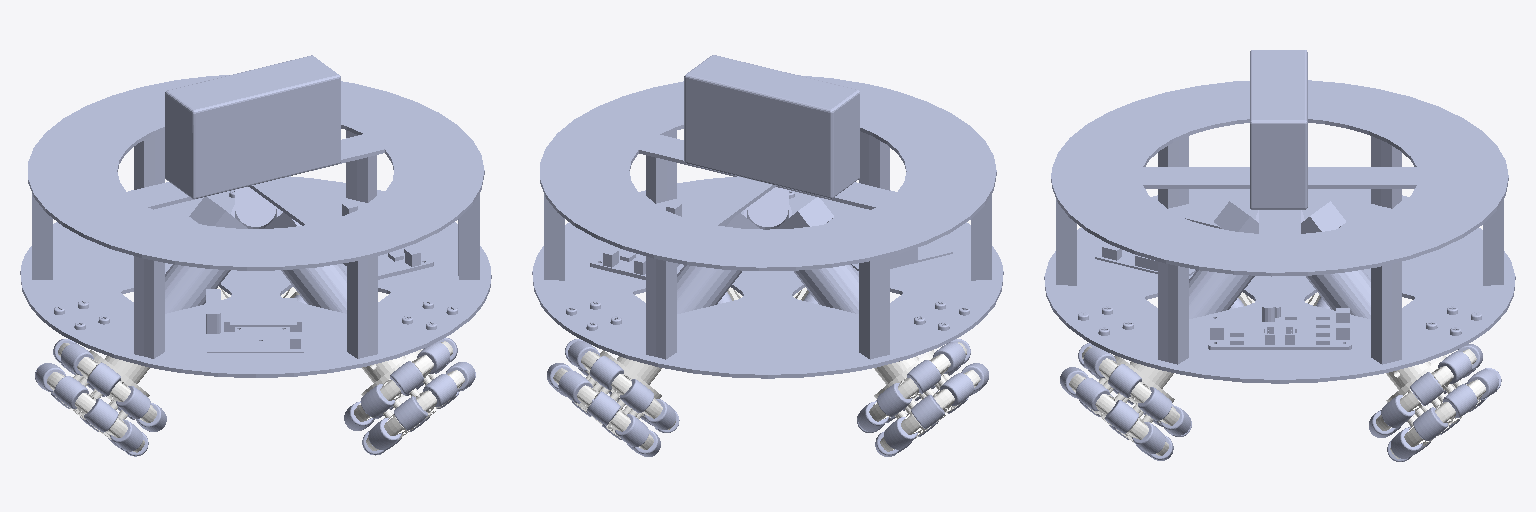
--- What the picture shows (computed from the rendered views, not written in the file) ---
The picture shows the robot from 3 angles, left to right: view 1: azimuth 30°, elevation 25°; view 2: azimuth 150°, elevation 25°; view 3: azimuth 270°, elevation 25°; orthographic projection.
Robot: ballbot 3.0 — 58 links, 57 joints (57 continuous); root link base_link; default pose: every joint at zero.
Visible links, largest first — view 1: base_link, omniwheel4, omniwheel5, wheel415, wheel56, wheel48, wheel518, wheel416, wheel517, wheel49, wheel55, wheel47 (+3 smaller); view 2: base_link, omniwheel1, omniwheel4, wheel46, wheel418, wheel19, wheel18, wheel115, wheel45, wheel417, wheel114, wheel116 (+1 smaller); view 3: base_link, omniwheel1, omniwheel5, wheel515, wheel118, wheel58, wheel16, wheel117, wheel59, wheel516, wheel15, wheel17 (+1 smaller).
Link boxes in pixels (x1,y1,x2,y2): base_link: (20, 55, 491, 377); omniwheel4: (47, 343, 156, 452); omniwheel5: (354, 341, 464, 450); wheel415: (84, 398, 118, 432); wheel56: (390, 361, 423, 394); wheel48: (87, 362, 120, 396); wheel518: (394, 396, 427, 430); wheel416: (54, 376, 88, 408); wheel517: (423, 374, 457, 406); wheel49: (116, 386, 150, 418); wheel55: (361, 384, 394, 417); wheel47: (61, 343, 93, 375); base_link: (532, 55, 1003, 378); omniwheel1: (553, 350, 675, 449); omniwheel4: (869, 342, 980, 451); wheel46: (907, 360, 940, 393); wheel418: (911, 395, 944, 428); wheel19: (620, 379, 653, 412); wheel18: (590, 356, 623, 389); wheel115: (587, 391, 620, 425); wheel45: (877, 383, 911, 416); wheel417: (940, 373, 973, 405); wheel114: (615, 414, 648, 446); wheel116: (558, 371, 592, 403); base_link: (1044, 50, 1515, 383); omniwheel1: (1376, 349, 1485, 458); omniwheel5: (1069, 346, 1179, 455); wheel515: (1105, 400, 1138, 433); wheel118: (1413, 407, 1447, 440); wheel58: (1108, 364, 1141, 397); wheel16: (1410, 372, 1443, 405); wheel117: (1443, 384, 1477, 417); wheel59: (1138, 387, 1171, 420); wheel516: (1076, 378, 1109, 410); wheel15: (1381, 395, 1414, 427); wheel17: (1438, 351, 1471, 383).
Bounding box of the posed robot: 0.3445 × 0.3397 × 0.2672 m (x, y, z).
58 mesh visuals loaded from 58 distinct referenced files (58 binary STL).

The robot description file, URDF, robot "ballbot 3.0":
<?xml version="1.0" encoding="utf-8"?>
<!-- This URDF was automatically created by SolidWorks to URDF Exporter! Originally created by Stephen Brawner ([email redacted]) 
     Commit Version: 1.5.1-0-g916b5db  Build Version: 1.5.7152.31018
     For more information, please see http://wiki.ros.org/sw_urdf_exporter -->
<robot
  name="ballbot 3.0">
  <link
    name="base_link">
    <inertial>
      <origin
        xyz="0.00034247 -0.34147 0.049723"
        rpy="0 0 0" />
      <mass
        value="11.5" />
      <inertia
        ixx="0.0041015"
        ixy="4.4238E-06"
        ixz="4.0991E-07"
        iyy="0.004503"
        iyz="-1.004E-06"
        izz="0.0077111" />
    </inertial>
    <visual>
      <origin
        xyz="0 0 0"
        rpy="0 0 0" />
      <geometry>
        <mesh
          filename="package://ballbot 3.0/meshes/base_link.STL" />
      </geometry>
      <material
        name="">
        <color
          rgba="0.79216 0.81961 0.93333 1" />
      </material>
    </visual>
    <collision>
      <origin
        xyz="0 0 0"
        rpy="0 0 0" />
      <geometry>
        <mesh
          filename="package://ballbot 3.0/meshes/base_link.STL" />
      </geometry>
    </collision>
  </link>
  <link
    name="omniwheel4">
    <inertial>
      <origin
        xyz="-0.0033504 -0.017313 0.00031354"
        rpy="0 0 0" />
      <mass
        value="0.4" />
      <inertia
        ixx="5.3804E-05"
        ixy="1.7084E-06"
        ixz="-4.8248E-09"
        iyy="7.3424E-05"
        iyz="-1.9402E-07"
        izz="5.3646E-05" />
    </inertial>
    <visual>
      <origin
        xyz="0 0 0"
        rpy="0 0 0" />
      <geometry>
        <mesh
          filename="package://ballbot 3.0/meshes/omniwheel4.STL" />
      </geometry>
      <material
        name="">
        <color
          rgba="1 1 1 1" />
      </material>
    </visual>
    <collision>
      <origin
        xyz="0 0 0"
        rpy="0 0 0" />
      <geometry>
        <mesh
          filename="package://ballbot 3.0/meshes/omniwheel4.STL" />
      </geometry>
    </collision>
  </link>
  <joint
    name="omniwheel4"
    type="continuous">
    <origin
      xyz="-0.11348 -0.34003 -0.052798"
      rpy="1.4806 0.69325 -0.14058" />
    <parent
      link="base_link" />
    <child
      link="omniwheel4" />
    <axis
      xyz="0 1 0" />
  </joint>
  <link
    name="wheel41">
    <inertial>
      <origin
        xyz="7.1848E-06 6.8694E-06 2.982E-06"
        rpy="0 0 0" />
      <mass
        value="0.0023" />
      <inertia
        ixx="2.1874E-07"
        ixy="4.4072E-16"
        ixz="-4.7451E-16"
        iyy="2.4987E-07"
        iyz="1.5924E-18"
        izz="2.4987E-07" />
    </inertial>
    <visual>
      <origin
        xyz="0 0 0"
        rpy="0 0 0" />
      <geometry>
        <mesh
          filename="package://ballbot 3.0/meshes/wheel41.STL" />
      </geometry>
      <material
        name="">
        <color
          rgba="0.79216 0.81961 0.93333 1" />
      </material>
    </visual>
    <collision>
      <origin
        xyz="0 0 0"
        rpy="0 0 0" />
      <geometry>
        <mesh
          filename="package://ballbot 3.0/meshes/wheel41.STL" />
      </geometry>
    </collision>
  </link>
  <joint
    name="wheel41"
    type="continuous">
    <origin
      xyz="0.022594 -0.010412 0.03125"
      rpy="-0.73638 -0.68311 3.0472" />
    <parent
      link="omniwheel4" />
    <child
      link="wheel41" />
    <axis
      xyz="1 0 0" />
  </joint>
  <link
    name="wheel42">
    <inertial>
      <origin
        xyz="3.9928E-06 9.4484E-06 2.0535E-07"
        rpy="0 0 0" />
      <mass
        value="0.0023" />
      <inertia
        ixx="2.1874E-07"
        ixy="-1.571E-14"
        ixz="1.6915E-14"
        iyy="2.4987E-07"
        iyz="2.0581E-15"
        izz="2.4987E-07" />
    </inertial>
    <visual>
      <origin
        xyz="0 0 0"
        rpy="0 0 0" />
      <geometry>
        <mesh
          filename="package://ballbot 3.0/meshes/wheel42.STL" />
      </geometry>
      <material
        name="">
        <color
          rgba="0.79216 0.81961 0.93333 1" />
      </material>
    </visual>
    <collision>
      <origin
        xyz="0 0 0"
        rpy="0 0 0" />
      <geometry>
        <mesh
          filename="package://ballbot 3.0/meshes/wheel42.STL" />
      </geometry>
    </collision>
  </link>
  <joint
    name="wheel42"
    type="continuous">
    <origin
      xyz="0.036556 -0.011848 0.0077631"
      rpy="-0.69867 -1.3811 3.0059" />
    <parent
      link="omniwheel4" />
    <child
      link="wheel42" />
    <axis
      xyz="1 0 0" />
  </joint>
  <link
    name="wheel43">
    <inertial>
      <origin
        xyz="-8.9079E-07 1.0028E-05 -4.1885E-07"
        rpy="0 0 0" />
      <mass
        value="0.0023" />
      <inertia
        ixx="2.1874E-07"
        ixy="-1.8078E-14"
        ixz="1.9464E-14"
        iyy="2.4987E-07"
        iyz="2.2873E-15"
        izz="2.4987E-07" />
    </inertial>
    <visual>
      <origin
        xyz="0 0 0"
        rpy="0 0 0" />
      <geometry>
        <mesh
          filename="package://ballbot 3.0/meshes/wheel43.STL" />
      </geometry>
      <material
        name="">
        <color
          rgba="0.79216 0.81961 0.93333 1" />
      </material>
    </visual>
    <collision>
      <origin
        xyz="0 0 0"
        rpy="0 0 0" />
      <geometry>
        <mesh
          filename="package://ballbot 3.0/meshes/wheel43.STL" />
      </geometry>
    </collision>
  </link>
  <joint
    name="wheel43"
    type="continuous">
    <origin
      xyz="0.032203 -0.011724 -0.01925"
      rpy="2.3738 -1.0621 -0.069915" />
    <parent
      link="omniwheel4" />
    <child
      link="wheel43" />
    <axis
      xyz="1 0 0" />
  </joint>
  <link
    name="wheel44">
    <inertial>
      <origin
        xyz="-5.1771E-06 8.3376E-06 1.4013E-06"
        rpy="0 0 0" />
      <mass
        value="0.0023" />
      <inertia
        ixx="2.1874E-07"
        ixy="2.6295E-15"
        ixz="-2.8311E-15"
        iyy="2.4987E-07"
        iyz="5.4475E-17"
        izz="2.4987E-07" />
    </inertial>
    <visual>
      <origin
        xyz="0 0 0"
        rpy="0 0 0" />
      <geometry>
        <mesh
          filename="package://ballbot 3.0/meshes/wheel44.STL" />
      </geometry>
      <material
        name="">
        <color
          rgba="0.79216 0.81961 0.93333 1" />
      </material>
    </visual>
    <collision>
      <origin
        xyz="0 0 0"
        rpy="0 0 0" />
      <geometry>
        <mesh
          filename="package://ballbot 3.0/meshes/wheel44.STL" />
      </geometry>
    </collision>
  </link>
  <joint
    name="wheel44"
    type="continuous">
    <origin
      xyz="0.011572 -0.010098 -0.037149"
      rpy="2.383 -0.36403 -0.083182" />
    <parent
      link="omniwheel4" />
    <child
      link="wheel44" />
    <axis
      xyz="1 0 0" />
  </joint>
  <link
    name="wheel45">
    <inertial>
      <origin
        xyz="-6.8649E-06 5.1664E-06 4.8157E-06"
        rpy="0 0 0" />
      <mass
        value="0.0023" />
      <inertia
        ixx="2.1874E-07"
        ixy="2.5622E-15"
        ixz="-2.7587E-15"
        iyy="2.4987E-07"
        iyz="4.6069E-17"
        izz="2.4987E-07" />
    </inertial>
    <visual>
      <origin
        xyz="0 0 0"
        rpy="0 0 0" />
      <geometry>
        <mesh
          filename="package://ballbot 3.0/meshes/wheel45.STL" />
      </geometry>
      <material
        name="">
        <color
          rgba="0.79216 0.81961 0.93333 1" />
      </material>
    </visual>
    <collision>
      <origin
        xyz="0 0 0"
        rpy="0 0 0" />
      <geometry>
        <mesh
          filename="package://ballbot 3.0/meshes/wheel45.STL" />
      </geometry>
    </collision>
  </link>
  <joint
    name="wheel45"
    type="continuous">
    <origin
      xyz="-0.015684 -0.0077316 -0.037559"
      rpy="2.3832 0.33407 -0.090021" />
    <parent
      link="omniwheel4" />
    <child
      link="wheel45" />
    <axis
      xyz="1 0 0" />
  </joint>
  <link
    name="wheel46">
    <inertial>
      <origin
        xyz="-5.159E-06 1.9986E-06 8.2263E-06"
        rpy="0 0 0" />
      <mass
        value="0.0023" />
      <inertia
        ixx="2.1874E-07"
        ixy="-1.0069E-14"
        ixz="1.0841E-14"
        iyy="2.4987E-07"
        iyz="9.4571E-16"
        izz="2.4987E-07" />
    </inertial>
    <visual>
      <origin
        xyz="0 0 0"
        rpy="0 0 0" />
      <geometry>
        <mesh
          filename="package://ballbot 3.0/meshes/wheel46.STL" />
      </geometry>
      <material
        name="">
        <color
          rgba="0.79216 0.81961 0.93333 1" />
      </material>
    </visual>
    <collision>
      <origin
        xyz="0 0 0"
        rpy="0 0 0" />
      <geometry>
        <mesh
          filename="package://ballbot 3.0/meshes/wheel46.STL" />
      </geometry>
    </collision>
  </link>
  <joint
    name="wheel46"
    type="continuous">
    <origin
      xyz="-0.036811 -0.0057311 -0.020288"
      rpy="2.3748 1.0321 -0.10248" />
    <parent
      link="omniwheel4" />
    <child
      link="wheel46" />
    <axis
      xyz="1 0 0" />
  </joint>
  <link
    name="wheel47">
    <inertial>
      <origin
        xyz="-8.6463E-07 3.1784E-07 1.0036E-05"
        rpy="0 0 0" />
      <mass
        value="0.0023" />
      <inertia
        ixx="2.1874E-07"
        ixy="-3.5856E-15"
        ixz="3.8606E-15"
        iyy="2.4987E-07"
        iyz="9.9855E-17"
        izz="2.4987E-07" />
    </inertial>
    <visual>
      <origin
        xyz="0 0 0"
        rpy="0 0 0" />
      <geometry>
        <mesh
          filename="package://ballbot 3.0/meshes/wheel47.STL" />
      </geometry>
      <material
        name="">
        <color
          rgba="0.79216 0.81961 0.93333 1" />
      </material>
    </visual>
    <collision>
      <origin
        xyz="0 0 0"
        rpy="0 0 0" />
      <geometry>
        <mesh
          filename="package://ballbot 3.0/meshes/wheel47.STL" />
      </geometry>
    </collision>
  </link>
  <joint
    name="wheel47"
    type="continuous">
    <origin
      xyz="-0.041924 -0.005033 0.0065827"
      rpy="-0.68944 1.411 3.1131" />
    <parent
      link="omniwheel4" />
    <child
      link="wheel47" />
    <axis
      xyz="1 0 0" />
  </joint>
  <link
    name="wheel48">
    <inertial>
      <origin
        xyz="4.0124E-06 9.0927E-07 9.3992E-06"
        rpy="0 0 0" />
      <mass
        value="0.0023" />
      <inertia
        ixx="2.1874E-07"
        ixy="-5.8857E-15"
        ixz="6.337E-15"
        iyy="2.4987E-07"
        iyz="2.185E-16"
        izz="2.4987E-07" />
    </inertial>
    <visual>
      <origin
        xyz="0 0 0"
        rpy="0 0 0" />
      <geometry>
        <mesh
          filename="package://ballbot 3.0/meshes/wheel48.STL" />
      </geometry>
      <material
        name="">
        <color
          rgba="0.79216 0.81961 0.93333 1" />
      </material>
    </visual>
    <collision>
      <origin
        xyz="0 0 0"
        rpy="0 0 0" />
      <geometry>
        <mesh
          filename="package://ballbot 3.0/meshes/wheel48.STL" />
      </geometry>
    </collision>
  </link>
  <joint
    name="wheel48"
    type="continuous">
    <origin
      xyz="-0.028631 -0.0059639 0.03048"
      rpy="-0.73607 0.71308 3.063" />
    <parent
      link="omniwheel4" />
    <child
      link="wheel48" />
    <axis
      xyz="1 0 0" />
  </joint>
  <link
    name="wheel49">
    <inertial>
      <origin
        xyz="7.1936E-06 3.4969E-06 6.6132E-06"
        rpy="0 0 0" />
      <mass
        value="0.0023" />
      <inertia
        ixx="2.1874E-07"
        ixy="5.957E-16"
        ixz="-6.4137E-16"
        iyy="2.4987E-07"
        iyz="2.9174E-18"
        izz="2.4987E-07" />
    </inertial>
    <visual>
      <origin
        xyz="0 0 0"
        rpy="0 0 0" />
      <geometry>
        <mesh
          filename="package://ballbot 3.0/meshes/wheel49.STL" />
      </geometry>
      <material
        name="">
        <color
          rgba="0.79216 0.81961 0.93333 1" />
      </material>
    </visual>
    <collision>
      <origin
        xyz="0 0 0"
        rpy="0 0 0" />
      <geometry>
        <mesh
          filename="package://ballbot 3.0/meshes/wheel49.STL" />
      </geometry>
    </collision>
  </link>
  <joint
    name="wheel49"
    type="continuous">
    <origin
      xyz="-0.0031507 -0.0080883 0.040222"
      rpy="-0.7391 0.014982 3.055" />
    <parent
      link="omniwheel4" />
    <child
      link="wheel49" />
    <axis
      xyz="-1 0 0" />
  </joint>
  <link
    name="wheel410">
    <inertial>
      <origin
        xyz="7.2147E-06 7.0627E-06 2.4072E-06"
        rpy="0 0 0" />
      <mass
        value="0.0023" />
      <inertia
        ixx="2.1874E-07"
        ixy="2.0029E-23"
        ixz="-1.0206E-15"
        iyy="2.4987E-07"
        iyz="2.595E-24"
        izz="2.4987E-07" />
    </inertial>
    <visual>
      <origin
        xyz="0 0 0"
        rpy="0 0 0" />
      <geometry>
        <mesh
          filename="package://ballbot 3.0/meshes/wheel410.STL" />
      </geometry>
      <material
        name="">
        <color
          rgba="0.79216 0.81961 0.93333 1" />
      </material>
    </visual>
    <collision>
      <origin
        xyz="0 0 0"
        rpy="0 0 0" />
      <geometry>
        <mesh
          filename="package://ballbot 3.0/meshes/wheel410.STL" />
      </geometry>
    </collision>
  </link>
  <joint
    name="wheel410"
    type="continuous">
    <origin
      xyz="-0.0042527 -0.030625 -0.039565"
      rpy="0.0093936 0.006392 3.0549" />
    <parent
      link="omniwheel4" />
    <child
      link="wheel410" />
    <axis
      xyz="1 0 0" />
  </joint>
  <link
    name="wheel411">
    <inertial>
      <origin
        xyz="4.0676E-06 7.0627E-06 6.2364E-06"
        rpy="0 0 0" />
      <mass
        value="0.0023" />
      <inertia
        ixx="2.1874E-07"
        ixy="-6.0908E-22"
        ixz="6.1003E-16"
        iyy="2.4987E-07"
        iyz="-1.4272E-23"
        izz="2.4987E-07" />
    </inertial>
    <visual>
      <origin
        xyz="0 0 0"
        rpy="0 0 0" />
      <geometry>
        <mesh
          filename="package://ballbot 3.0/meshes/wheel411.STL" />
      </geometry>
      <material
        name="">
        <color
          rgba="0.79216 0.81961 0.93333 1" />
      </material>
    </visual>
    <collision>
      <origin
        xyz="0 0 0"
        rpy="0 0 0" />
      <geometry>
        <mesh
          filename="package://ballbot 3.0/meshes/wheel411.STL" />
      </geometry>
    </collision>
  </link>
  <joint
    name="wheel411"
    type="continuous">
    <origin
      xyz="0.02131 -0.032759 -0.030043"
      rpy="0.012328 0.70449 3.0628" />
    <parent
      link="omniwheel4" />
    <child
      link="wheel411" />
    <axis
      xyz="1 0 0" />
  </joint>
  <link
    name="wheel412">
    <inertial>
      <origin
        xyz="-8.0329E-07 7.0627E-06 7.1477E-06"
        rpy="0 0 0" />
      <mass
        value="0.0023" />
      <inertia
        ixx="2.1874E-07"
        ixy="-1.6456E-22"
        ixz="6.1283E-15"
        iyy="2.4987E-07"
        iyz="4.9378E-24"
        izz="2.4987E-07" />
    </inertial>
    <visual>
      <origin
        xyz="0 0 0"
        rpy="0 0 0" />
      <geometry>
        <mesh
          filename="package://ballbot 3.0/meshes/wheel412.STL" />
      </geometry>
      <material
        name="">
        <color
          rgba="0.79216 0.81961 0.93333 1" />
      </material>
    </visual>
    <collision>
      <origin
        xyz="0 0 0"
        rpy="0 0 0" />
      <geometry>
        <mesh
          filename="package://ballbot 3.0/meshes/wheel412.STL" />
      </geometry>
    </collision>
  </link>
  <joint
    name="wheel412"
    type="continuous">
    <origin
      xyz="0.034807 -0.033708 -0.0062609"
      rpy="0.056073 1.4024 3.1101" />
    <parent
      link="omniwheel4" />
    <child
      link="wheel412" />
    <axis
      xyz="1 0 0" />
  </joint>
  <link
    name="wheel413">
    <inertial>
      <origin
        xyz="-5.1195E-06 7.0627E-06 4.7147E-06"
        rpy="0 0 0" />
      <mass
        value="0.0023" />
      <inertia
        ixx="2.1874E-07"
        ixy="3.4015E-22"
        ixz="1.3239E-14"
        iyy="2.4987E-07"
        iyz="5.1775E-24"
        izz="2.4987E-07" />
    </inertial>
    <visual>
      <origin
        xyz="0 0 0"
        rpy="0 0 0" />
      <geometry>
        <mesh
          filename="package://ballbot 3.0/meshes/wheel413.STL" />
      </geometry>
      <material
        name="">
        <color
          rgba="0.79216 0.81961 0.93333 1" />
      </material>
    </visual>
    <collision>
      <origin
        xyz="0 0 0"
        rpy="0 0 0" />
      <geometry>
        <mesh
          filename="package://ballbot 3.0/meshes/wheel413.STL" />
      </geometry>
    </collision>
  </link>
  <joint
    name="wheel413"
    type="continuous">
    <origin
      xyz="0.029924 -0.03303 0.020653"
      rpy="3.123 1.0407 -0.10279" />
    <parent
      link="omniwheel4" />
    <child
      link="wheel413" />
    <axis
      xyz="1 0 0" />
  </joint>
  <link
    name="wheel414">
    <inertial>
      <origin
        xyz="-6.8651E-06 7.0627E-06 7.5102E-08"
        rpy="0 0 0" />
      <mass
        value="0.0023" />
      <inertia
        ixx="2.1874E-07"
        ixy="7.7346E-23"
        ixz="1.7559E-15"
        iyy="2.4987E-07"
        iyz="-5.3396E-24"
        izz="2.4987E-07" />
    </inertial>
    <visual>
      <origin
        xyz="0 0 0"
        rpy="0 0 0" />
      <geometry>
        <mesh
          filename="package://ballbot 3.0/meshes/wheel414.STL" />
      </geometry>
      <material
        name="">
        <color
          rgba="0.79216 0.81961 0.93333 1" />
      </material>
    </visual>
    <collision>
      <origin
        xyz="0 0 0"
        rpy="0 0 0" />
      <geometry>
        <mesh
          filename="package://ballbot 3.0/meshes/wheel414.STL" />
      </geometry>
    </collision>
  </link>
  <joint
    name="wheel414"
    type="continuous">
    <origin
      xyz="0.0089455 -0.031041 0.038106"
      rpy="3.1316 0.34266 -0.090112" />
    <parent
      link="omniwheel4" />
    <child
      link="wheel414" />
    <axis
      xyz="1 0 0" />
  </joint>
  <link
    name="wheel415">
    <inertial>
      <origin
        xyz="-5.2144E-06 7.0627E-06 -4.599E-06"
        rpy="0 0 0" />
      <mass
        value="0.0023" />
      <inertia
        ixx="2.1874E-07"
        ixy="1.5335E-24"
        ixz="3.195E-15"
        iyy="2.4987E-07"
        iyz="-3.5907E-25"
        izz="2.4987E-07" />
    </inertial>
    <visual>
      <origin
        xyz="0 0 0"
        rpy="0 0 0" />
      <geometry>
        <mesh
          filename="package://ballbot 3.0/meshes/wheel415.STL" />
      </geometry>
      <material
        name="">
        <color
          rgba="0.79216 0.81961 0.93333 1" />
      </material>
    </visual>
    <collision>
      <origin
        xyz="0 0 0"
        rpy="0 0 0" />
      <geometry>
        <mesh
          filename="package://ballbot 3.0/meshes/wheel415.STL" />
      </geometry>
    </collision>
  </link>
  <joint
    name="wheel415"
    type="continuous">
    <origin
      xyz="-0.018313 -0.028671 0.037931"
      rpy="3.1316 -0.35544 -0.083274" />
    <parent
      link="omniwheel4" />
    <child
      link="wheel415" />
    <axis
      xyz="1 0 0" />
  </joint>
  <link
    name="wheel416">
    <inertial>
      <origin
        xyz="-9.5204E-07 7.0627E-06 -7.1202E-06"
        rpy="0 0 0" />
      <mass
        value="0.0023" />
      <inertia
        ixx="2.1874E-07"
        ixy="2.6461E-22"
        ixz="2.6543E-14"
        iyy="2.4987E-07"
        iyz="-2.9563E-24"
        izz="2.4987E-07" />
    </inertial>
    <visual>
      <origin
        xyz="0 0 0"
        rpy="0 0 0" />
      <geometry>
        <mesh
          filename="package://ballbot 3.0/meshes/wheel416.STL" />
      </geometry>
      <material
        name="">
        <color
          rgba="0.79216 0.81961 0.93333 1" />
      </material>
    </visual>
    <collision>
      <origin
        xyz="0 0 0"
        rpy="0 0 0" />
      <geometry>
        <mesh
          filename="package://ballbot 3.0/meshes/wheel416.STL" />
      </geometry>
    </collision>
  </link>
  <joint
    name="wheel416"
    type="continuous">
    <origin
      xyz="-0.039096 -0.027031 0.02021"
      rpy="3.1226 -1.0535 -0.07025" />
    <parent
      link="omniwheel4" />
    <child
      link="wheel416" />
    <axis
      xyz="1 0 0" />
  </joint>
  <link
    name="wheel417">
    <inertial>
      <origin
        xyz="3.9387E-06 7.0627E-06 -6.3103E-06"
        rpy="0 0 0" />
      <mass
        value="0.0023" />
      <inertia
        ixx="2.1874E-07"
        ixy="-5.6344E-23"
        ixz="2.2778E-14"
        iyy="2.4987E-07"
        iyz="-3.4354E-23"
        izz="2.4987E-07" />
    </inertial>
    <visual>
      <origin
        xyz="0 0 0"
        rpy="0 0 0" />
      <geometry>
        <mesh
          filename="package://ballbot 3.0/meshes/wheel417.STL" />
      </geometry>
      <material
        name="">
        <color
          rgba="0.79216 0.81961 0.93333 1" />
      </material>
    </visual>
    <collision>
      <origin
        xyz="0 0 0"
        rpy="0 0 0" />
      <geometry>
        <mesh
          filename="package://ballbot 3.0/meshes/wheel417.STL" />
      </geometry>
    </collision>
  </link>
  <joint
    name="wheel417"
    type="continuous">
    <origin
      xyz="-0.04368 -0.026886 -0.0067645"
      rpy="0.052157 -1.3896 3.0035" />
    <parent
      link="omniwheel4" />
    <child
      link="wheel417" />
    <axis
      xyz="1 0 0" />
  </joint>
  <link
    name="wheel418">
    <inertial>
      <origin
        xyz="7.1606E-06 7.0627E-06 -2.5482E-06"
        rpy="0 0 0" />
      <mass
        value="0.0023" />
      <inertia
        ixx="2.1874E-07"
        ixy="2.5465E-22"
        ixz="9.3027E-16"
        iyy="2.4987E-07"
        iyz="-2.7941E-23"
        izz="2.4987E-07" />
    </inertial>
    <visual>
      <origin
        xyz="0 0 0"
        rpy="0 0 0" />
      <geometry>
        <mesh
          filename="package://ballbot 3.0/meshes/wheel418.STL" />
      </geometry>
      <material
        name="">
        <color
          rgba="0.79216 0.81961 0.93333 1" />
      </material>
    </visual>
    <collision>
      <origin
        xyz="0 0 0"
        rpy="0 0 0" />
      <geometry>
        <mesh
          filename="package://ballbot 3.0/meshes/wheel418.STL" />
      </geometry>
    </collision>
  </link>
  <joint
    name="wheel418"
    type="continuous">
    <origin
      xyz="-0.029919 -0.028306 -0.030371"
      rpy="0.012197 -0.6917 3.0471" />
    <parent
      link="omniwheel4" />
    <child
      link="wheel418" />
    <axis
      xyz="1 0 0" />
  </joint>
  <link
    name="omniwheel1">
    <inertial>
      <origin
        xyz="-0.0018323 -0.017347 0.0028695"
        rpy="0 0 0" />
      <mass
        value="0.4" />
      <inertia
        ixx="5.3702E-05"
        ixy="9.3644E-07"
        ixz="-5.9471E-08"
        iyy="7.3422E-05"
        iyz="-1.4555E-06"
        izz="5.375E-05" />
    </inertial>
    <visual>
      <origin
        xyz="0 0 0"
        rpy="0 0 0" />
      <geometry>
        <mesh
          filename="package://ballbot 3.0/meshes/omniwheel1.STL" />
      </geometry>
      <material
        name="">
        <color
          rgba="1 1 1 1" />
      </material>
    </visual>
    <collision>
      <origin
        xyz="0 0 0"
        rpy="0 0 0" />
      <geometry>
        <mesh
          filename="package://ballbot 3.0/meshes/omniwheel1.STL" />
      </geometry>
    </collision>
  </link>
  <joint
    name="omniwheel1"
    type="continuous">
    <origin
      xyz="0.057368 -0.24133 -0.052798"
      rpy="0.95859 0.35957 3.0825" />
    <parent
      link="base_link" />
    <child
      link="omniwheel1" />
    <axis
      xyz="0 1 0" />
  </joint>
  <link
    name="wheel11">
    <inertial>
      <origin
        xyz="3.8113E-07 6.2405E-06 5.7962E-06"
        rpy="0 0 0" />
      <mass
        value="0.0023" />
      <inertia
        ixx="2.1874E-07"
        ixy="1.3618E-15"
        ixz="3.3533E-15"
        iyy="2.4987E-07"
        iyz="-3.4067E-17"
        izz="2.4987E-07" />
    </inertial>
    <visual>
      <origin
        xyz="0 0 0"
        rpy="0 0 0" />
      <geometry>
        <mesh
          filename="package://ballbot 3.0/meshes/wheel11.STL" />
      </geometry>
      <material
        name="">
        <color
          rgba="0.79216 0.81961 0.93333 1" />
      </material>
    </visual>
    <collision>
      <origin
        xyz="0 0 0"
        rpy="0 0 0" />
      <geometry>
        <mesh
          filename="package://ballbot 3.0/meshes/wheel11.STL" />
      </geometry>
    </collision>
  </link>
  <joint
    name="wheel11"
    type="continuous">
    <origin
      xyz="0.037549 -0.0097572 0.011185"
      rpy="-0.43376 -1.3329 2.7873" />
    <parent
      link="omniwheel1" />
    <child
      link="wheel11" />
    <axis
      xyz="1 0 0" />
  </joint>
  <link
    name="wheel12">
    <inertial>
      <origin
        xyz="3.8266E-07 6.2407E-06 5.7962E-06"
        rpy="0 0 0" />
      <mass
        value="0.0023" />
      <inertia
        ixx="2.1874E-07"
        ixy="4.9229E-15"
        ixz="2.8371E-15"
        iyy="2.4987E-07"
        iyz="-1.2206E-16"
        izz="2.4987E-07" />
    </inertial>
    <visual>
      <origin
        xyz="0 0 0"
        rpy="0 0 0" />
      <geometry>
        <mesh
          filename="package://ballbot 3.0/meshes/wheel12.STL" />
      </geometry>
      <material
        name="">
        <color
          rgba="0.79216 0.81961 0.93333 1" />
      </material>
    </visual>
    <collision>
      <origin
        xyz="0 0 0"
        rpy="0 0 0" />
      <geometry>
        <mesh
          filename="package://ballbot 3.0/meshes/wheel12.STL" />
      </geometry>
    </collision>
  </link>
  <joint
    name="wheel12"
    type="continuous">
    <origin
      xyz="0.034115 -0.011576 -0.0159"
      rpy="2.2335 -1.094 0.094214" />
    <parent
      link="omniwheel1" />
    <child
      link="wheel12" />
    <axis
      xyz="1 0 0" />
  </joint>
  <link
    name="wheel13">
    <inertial>
      <origin
        xyz="3.8062E-07 6.2407E-06 5.7963E-06"
        rpy="0 0 0" />
      <mass
        value="0.0023" />
      <inertia
        ixx="2.1874E-07"
        ixy="4.4536E-15"
        ixz="4.6171E-15"
        iyy="2.4987E-07"
        iyz="-1.4534E-16"
        izz="2.4987E-07" />
    </inertial>
    <visual>
      <origin
        xyz="0 0 0"
        rpy="0 0 0" />
      <geometry>
        <mesh
          filename="package://ballbot 3.0/meshes/wheel13.STL" />
      </geometry>
      <material
        name="">
        <color
          rgba="0.79216 0.81961 0.93333 1" />
      </material>
    </visual>
    <collision>
      <origin
        xyz="0 0 0"
        rpy="0 0 0" />
      <geometry>
        <mesh
          filename="package://ballbot 3.0/meshes/wheel13.STL" />
      </geometry>
    </collision>
  </link>
  <joint
    name="wheel13"
    type="continuous">
    <origin
      xyz="0.014055 -0.011977 -0.034504"
      rpy="2.3138 -0.39997 -0.016934" />
    <parent
      link="omniwheel1" />
    <child
      link="wheel13" />
    <axis
      xyz="1 0 0" />
  </joint>
  <link
    name="wheel14">
    <inertial>
      <origin
        xyz="3.7977E-07 6.2404E-06 5.7968E-06"
        rpy="0 0 0" />
      <mass
        value="0.0023" />
      <inertia
        ixx="2.1874E-07"
        ixy="-1.2993E-15"
        ixz="1.7947E-14"
        iyy="2.4987E-07"
        iyz="1.501E-16"
        izz="2.4987E-07" />
    </inertial>
    <visual>
      <origin
        xyz="0 0 0"
        rpy="0 0 0" />
      <geometry>
        <mesh
          filename="package://ballbot 3.0/meshes/wheel14.STL" />
      </geometry>
      <material
        name="">
        <color
          rgba="0.79216 0.81961 0.93333 1" />
      </material>
    </visual>
    <collision>
      <origin
        xyz="0 0 0"
        rpy="0 0 0" />
      <geometry>
        <mesh
          filename="package://ballbot 3.0/meshes/wheel14.STL" />
      </geometry>
    </collision>
  </link>
  <joint
    name="wheel14"
    type="continuous">
    <origin
      xyz="-0.013243 -0.010774 -0.035923"
      rpy="2.3168 0.29622 -0.070177" />
    <parent
      link="omniwheel1" />
    <child
      link="wheel14" />
    <axis
      xyz="1 0 0" />
  </joint>
  <link
    name="wheel15">
    <inertial>
      <origin
        xyz="3.8257E-07 6.2407E-06 5.796E-06"
        rpy="0 0 0" />
      <mass
        value="0.0023" />
      <inertia
        ixx="2.1874E-07"
        ixy="4.5111E-15"
        ixz="-1.2396E-15"
        iyy="2.4987E-07"
        iyz="4.8438E-17"
        izz="2.4987E-07" />
    </inertial>
    <visual>
      <origin
        xyz="0 0 0"
        rpy="0 0 0" />
      <geometry>
        <mesh
          filename="package://ballbot 3.0/meshes/wheel15.STL" />
      </geometry>
      <material
        name="">
        <color
          rgba="0.79216 0.81961 0.93333 1" />
      </material>
    </visual>
    <collision>
      <origin
        xyz="0 0 0"
        rpy="0 0 0" />
      <geometry>
        <mesh
          filename="package://ballbot 3.0/meshes/wheel15.STL" />
      </geometry>
    </collision>
  </link>
  <joint
    name="wheel15"
    type="continuous">
    <origin
      xyz="-0.035007 -0.0085285 -0.019493"
      rpy="2.2596 0.99107 -0.15978" />
    <parent
      link="omniwheel1" />
    <child
      link="wheel15" />
    <axis
      xyz="1 0 0" />
  </joint>
  <link
    name="wheel16">
    <inertial>
      <origin
        xyz="3.7925E-07 6.2408E-06 5.7963E-06"
        rpy="0 0 0" />
      <mass
        value="0.0023" />
      <inertia
        ixx="2.1874E-07"
        ixy="9.153E-15"
        ixz="6.373E-15"
        iyy="2.4987E-07"
        iyz="-3.5456E-16"
        izz="2.4987E-07" />
    </inertial>
    <visual>
      <origin
        xyz="0 0 0"
        rpy="0 0 0" />
      <geometry>
        <mesh
          filename="package://ballbot 3.0/meshes/wheel16.STL" />
      </geometry>
      <material
        name="">
        <color
          rgba="0.79216 0.81961 0.93333 1" />
      </material>
    </visual>
    <collision>
      <origin
        xyz="0 0 0"
        rpy="0 0 0" />
      <geometry>
        <mesh
          filename="package://ballbot 3.0/meshes/wheel16.STL" />
      </geometry>
    </collision>
  </link>
  <joint
    name="wheel16"
    type="continuous">
    <origin
      xyz="-0.041053 -0.006292 0.0070979"
      rpy="-0.20917 1.4283 -2.6546" />
    <parent
      link="omniwheel1" />
    <child
      link="wheel16" />
    <axis
      xyz="1 0 0" />
  </joint>
  <link
    name="wheel17">
    <inertial>
      <origin
        xyz="3.8173E-07 6.2404E-06 5.7967E-06"
        rpy="0 0 0" />
      <mass
        value="0.0023" />
      <inertia
        ixx="2.1874E-07"
        ixy="-1.5362E-15"
        ixz="1.271E-14"
        iyy="2.4987E-07"
        iyz="1.5529E-16"
        izz="2.4987E-07" />
    </inertial>
    <visual>
      <origin
        xyz="0 0 0"
        rpy="0 0 0" />
      <geometry>
        <mesh
          filename="package://ballbot 3.0/meshes/wheel17.STL" />
      </geometry>
      <material
        name="">
        <color
          rgba="0.79216 0.81961 0.93333 1" />
      </material>
    </visual>
    <collision>
      <origin
        xyz="0 0 0"
        rpy="0 0 0" />
      <geometry>
        <mesh
          filename="package://ballbot 3.0/meshes/wheel17.STL" />
      </geometry>
    </collision>
  </link>
  <joint
    name="wheel17"
    type="continuous">
    <origin
      xyz="-0.028553 -0.0051108 0.031408"
      rpy="-0.64886 0.74769 -3.1216" />
    <parent
      link="omniwheel1" />
    <child
      link="wheel17" />
    <axis
      xyz="1 0 0" />
  </joint>
  <link
    name="wheel18">
    <inertial>
      <origin
        xyz="3.8129E-07 6.2409E-06 5.7965E-06"
        rpy="0 0 0" />
      <mass
        value="0.0023" />
      <inertia
        ixx="2.1874E-07"
        ixy="9.5762E-15"
        ixz="9.0723E-15"
        iyy="2.4987E-07"
        iyz="-6.5958E-16"
        izz="2.4987E-07" />
    </inertial>
    <visual>
      <origin
        xyz="0 0 0"
        rpy="0 0 0" />
      <geometry>
        <mesh
          filename="package://ballbot 3.0/meshes/wheel18.STL" />
      </geometry>
      <material
        name="">
        <color
          rgba="0.79216 0.81961 0.93333 1" />
      </material>
    </visual>
    <collision>
      <origin
        xyz="0 0 0"
        rpy="0 0 0" />
      <geometry>
        <mesh
          filename="package://ballbot 3.0/meshes/wheel18.STL" />
      </geometry>
    </collision>
  </link>
  <joint
    name="wheel18"
    type="continuous">
    <origin
      xyz="-0.0033544 -0.0055375 0.042063"
      rpy="-0.67539 0.051897 3.0975" />
    <parent
      link="omniwheel1" />
    <child
      link="wheel18" />
    <axis
      xyz="1 0 0" />
  </joint>
  <link
    name="wheel19">
    <inertial>
      <origin
        xyz="3.7826E-07 6.2406E-06 5.7963E-06"
        rpy="0 0 0" />
      <mass
        value="0.0023" />
      <inertia
        ixx="2.1874E-07"
        ixy="2.5409E-15"
        ixz="5.2041E-15"
        iyy="2.4987E-07"
        iyz="-7.1881E-17"
        izz="2.4987E-07" />
    </inertial>
    <visual>
      <origin
        xyz="0 0 0"
        rpy="0 0 0" />
      <geometry>
        <mesh
          filename="package://ballbot 3.0/meshes/wheel19.STL" />
      </geometry>
      <material
        name="">
        <color
          rgba="0.79216 0.81961 0.93333 1" />
      </material>
    </visual>
    <collision>
      <origin
        xyz="0 0 0"
        rpy="0 0 0" />
      <geometry>
        <mesh
          filename="package://ballbot 3.0/meshes/wheel19.STL" />
      </geometry>
    </collision>
  </link>
  <joint
    name="wheel19"
    type="continuous">
    <origin
      xyz="0.022751 -0.0073725 0.034076"
      rpy="-0.65715 -0.64409 3.0388" />
    <parent
      link="omniwheel1" />
    <child
      link="wheel19" />
    <axis
      xyz="1 0 0" />
  </joint>
  <link
    name="wheel110">
    <inertial>
      <origin
        xyz="3.8066E-07 8.5167E-06 -1.5126E-10"
        rpy="0 0 0" />
      <mass
        value="0.0023" />
      <inertia
        ixx="2.1874E-07"
        ixy="-4.4968E-15"
        ixz="-3.4222E-15"
        iyy="2.4987E-07"
        iyz="-1.0924E-16"
        izz="2.4987E-07" />
    </inertial>
    <visual>
      <origin
        xyz="0 0 0"
        rpy="0 0 0" />
      <geometry>
        <mesh
          filename="package://ballbot 3.0/meshes/wheel110.STL" />
      </geometry>
      <material
        name="">
        <color
          rgba="0.79216 0.81961 0.93333 1" />
      </material>
    </visual>
    <collision>
      <origin
        xyz="0 0 0"
        rpy="0 0 0" />
      <geometry>
        <mesh
          filename="package://ballbot 3.0/meshes/wheel110.STL" />
      </geometry>
    </collision>
  </link>
  <joint
    name="wheel110"
    type="continuous">
    <origin
      xyz="-0.026895 -0.031408 -0.027832"
      rpy="0.091935 -0.65264 3.0378" />
    <parent
      link="omniwheel1" />
    <child
      link="wheel110" />
    <axis
      xyz="1 0 0" />
  </joint>
  <link
    name="wheel111">
    <inertial>
      <origin
        xyz="3.8037E-07 8.5163E-06 6.6884E-12"
        rpy="0 0 0" />
      <mass
        value="0.0023" />
      <inertia
        ixx="2.1874E-07"
        ixy="-1.3733E-14"
        ixz="1.5434E-16"
        iyy="2.4987E-07"
        iyz="1.4577E-17"
        izz="2.4987E-07" />
    </inertial>
    <visual>
      <origin
        xyz="0 0 0"
        rpy="0 0 0" />
      <geometry>
        <mesh
          filename="package://ballbot 3.0/meshes/wheel111.STL" />
      </geometry>
      <material
        name="">
        <color
          rgba="0.79216 0.81961 0.93333 1" />
      </material>
    </visual>
    <collision>
      <origin
        xyz="0 0 0"
        rpy="0 0 0" />
      <geometry>
        <mesh
          filename="package://ballbot 3.0/meshes/wheel111.STL" />
      </geometry>
    </collision>
  </link>
  <joint
    name="wheel111"
    type="continuous">
    <origin
      xyz="-0.00085976 -0.033256 -0.036043"
      rpy="0.073071 0.043329 3.0969" />
    <parent
      link="omniwheel1" />
    <child
      link="wheel111" />
    <axis
      xyz="1 0 0" />
  </joint>
  <link
    name="wheel112">
    <inertial>
      <origin
        xyz="3.8164E-07 8.5171E-06 3.6262E-10"
        rpy="0 0 0" />
      <mass
        value="0.0023" />
      <inertia
        ixx="2.1874E-07"
        ixy="4.6501E-15"
        ixz="7.6881E-15"
        iyy="2.4987E-07"
        iyz="-2.8157E-16"
        izz="2.4987E-07" />
    </inertial>
    <visual>
      <origin
        xyz="0 0 0"
        rpy="0 0 0" />
      <geometry>
        <mesh
          filename="package://ballbot 3.0/meshes/wheel112.STL" />
      </geometry>
      <material
        name="">
        <color
          rgba="0.79216 0.81961 0.93333 1" />
      </material>
    </visual>
    <collision>
      <origin
        xyz="0 0 0"
        rpy="0 0 0" />
      <geometry>
        <mesh
          filename="package://ballbot 3.0/meshes/wheel112.STL" />
      </geometry>
    </collision>
  </link>
  <joint
    name="wheel112"
    type="continuous">
    <origin
      xyz="0.024429 -0.033703 -0.025605"
      rpy="0.098852 0.73914 -3.1227" />
    <parent
      link="omniwheel1" />
    <child
      link="wheel112" />
    <axis
      xyz="1 0 0" />
  </joint>
  <link
    name="wheel113">
    <inertial>
      <origin
        xyz="3.8003E-07 8.5169E-06 -1.1558E-10"
        rpy="0 0 0" />
      <mass
        value="0.0023" />
      <inertia
        ixx="2.1874E-07"
        ixy="-5.9433E-16"
        ixz="-2.7289E-15"
        iyy="2.4987E-07"
        iyz="-1.0751E-17"
        izz="2.4987E-07" />
    </inertial>
    <visual>
      <origin
        xyz="0 0 0"
        rpy="0 0 0" />
      <geometry>
        <mesh
          filename="package://ballbot 3.0/meshes/wheel113.STL" />
      </geometry>
      <material
        name="">
        <color
          rgba="0.79216 0.81961 0.93333 1" />
      </material>
    </visual>
    <collision>
      <origin
        xyz="0 0 0"
        rpy="0 0 0" />
      <geometry>
        <mesh
          filename="package://ballbot 3.0/meshes/wheel113.STL" />
      </geometry>
    </collision>
  </link>
  <joint
    name="wheel113"
    type="continuous">
    <origin
      xyz="0.037138 -0.032539 -0.0014016"
      rpy="0.5101 1.4209 -2.6841" />
    <parent
      link="omniwheel1" />
    <child
      link="wheel113" />
    <axis
      xyz="1 0 0" />
  </joint>
  <link
    name="wheel114">
    <inertial>
      <origin
        xyz="3.8221E-07 8.5168E-06 -1.6368E-10"
        rpy="0 0 0" />
      <mass
        value="0.0023" />
      <inertia
        ixx="2.1874E-07"
        ixy="-1.2471E-15"
        ixz="-3.3443E-15"
        iyy="2.4987E-07"
        iyz="-3.4839E-17"
        izz="2.4987E-07" />
    </inertial>
    <visual>
      <origin
        xyz="0 0 0"
        rpy="0 0 0" />
      <geometry>
        <mesh
          filename="package://ballbot 3.0/meshes/wheel114.STL" />
      </geometry>
      <material
        name="">
        <color
          rgba="0.79216 0.81961 0.93333 1" />
      </material>
    </visual>
    <collision>
      <origin
        xyz="0 0 0"
        rpy="0 0 0" />
      <geometry>
        <mesh
          filename="package://ballbot 3.0/meshes/wheel114.STL" />
      </geometry>
    </collision>
  </link>
  <joint
    name="wheel114"
    type="continuous">
    <origin
      xyz="0.03132 -0.03031 0.025241"
      rpy="3.0063 0.99958 -0.1619" />
    <parent
      link="omniwheel1" />
    <child
      link="wheel114" />
    <axis
      xyz="1 0 0" />
  </joint>
  <link
    name="wheel115">
    <inertial>
      <origin
        xyz="3.7974E-07 8.5172E-06 4.4913E-10"
        rpy="0 0 0" />
      <mass
        value="0.0023" />
      <inertia
        ixx="2.1874E-07"
        ixy="7.2802E-15"
        ixz="1.0816E-14"
        iyy="2.4987E-07"
        iyz="-5.056E-16"
        izz="2.4987E-07" />
    </inertial>
    <visual>
      <origin
        xyz="0 0 0"
        rpy="0 0 0" />
      <geometry>
        <mesh
          filename="package://ballbot 3.0/meshes/wheel115.STL" />
      </geometry>
      <material
        name="">
        <color
          rgba="0.79216 0.81961 0.93333 1" />
      </material>
    </visual>
    <collision>
      <origin
        xyz="0 0 0"
        rpy="0 0 0" />
      <geometry>
        <mesh
          filename="package://ballbot 3.0/meshes/wheel115.STL" />
      </geometry>
    </collision>
  </link>
  <joint
    name="wheel115"
    type="continuous">
    <origin
      xyz="0.0096991 -0.028058 0.041858"
      rpy="3.0651 0.30478 -0.070864" />
    <parent
      link="omniwheel1" />
    <child
      link="wheel115" />
    <axis
      xyz="1 0 0" />
  </joint>
  <link
    name="wheel116">
    <inertial>
      <origin
        xyz="3.8141E-07 8.5162E-06 1.2506E-10"
        rpy="0 0 0" />
      <mass
        value="0.0023" />
      <inertia
        ixx="2.1874E-07"
        ixy="-1.4873E-14"
        ixz="2.6926E-15"
        iyy="2.4987E-07"
        iyz="3.0779E-16"
        izz="2.4987E-07" />
    </inertial>
    <visual>
      <origin
        xyz="0 0 0"
        rpy="0 0 0" />
      <geometry>
        <mesh
          filename="package://ballbot 3.0/meshes/wheel116.STL" />
      </geometry>
      <material
        name="">
        <color
          rgba="0.79216 0.81961 0.93333 1" />
      </material>
    </visual>
    <collision>
      <origin
        xyz="0 0 0"
        rpy="0 0 0" />
      <geometry>
        <mesh
          filename="package://ballbot 3.0/meshes/wheel116.STL" />
      </geometry>
    </collision>
  </link>
  <joint
    name="wheel116"
    type="continuous">
    <origin
      xyz="-0.017609 -0.026837 0.040673"
      rpy="3.0626 -0.39141 -0.017669" />
    <parent
      link="omniwheel1" />
    <child
      link="wheel116" />
    <axis
      xyz="1 0 0" />
  </joint>
  <link
    name="wheel117">
    <inertial>
      <origin
        xyz="3.8052E-07 8.5164E-06 -1.6322E-10"
        rpy="0 0 0" />
      <mass
        value="0.0023" />
      <inertia
        ixx="2.1874E-07"
        ixy="-1.0938E-14"
        ixz="-3.7282E-15"
        iyy="2.4987E-07"
        iyz="-2.8507E-16"
        izz="2.4987E-07" />
    </inertial>
    <visual>
      <origin
        xyz="0 0 0"
        rpy="0 0 0" />
      <geometry>
        <mesh
          filename="package://ballbot 3.0/meshes/wheel117.STL" />
      </geometry>
      <material
        name="">
        <color
          rgba="0.79216 0.81961 0.93333 1" />
      </material>
    </visual>
    <collision>
      <origin
        xyz="0 0 0"
        rpy="0 0 0" />
      <geometry>
        <mesh
          filename="package://ballbot 3.0/meshes/wheel117.STL" />
      </geometry>
    </collision>
  </link>
  <joint
    name="wheel117"
    type="continuous">
    <origin
      xyz="-0.037827 -0.027218 0.02224"
      rpy="2.9846 -1.0856 0.091286" />
    <parent
      link="omniwheel1" />
    <child
      link="wheel117" />
    <axis
      xyz="1 0 0" />
  </joint>
  <link
    name="wheel118">
    <inertial>
      <origin
        xyz="3.8096E-07 8.5169E-06 2.3151E-11"
        rpy="0 0 0" />
      <mass
        value="0.0023" />
      <inertia
        ixx="2.1874E-07"
        ixy="6.3055E-16"
        ixz="5.1328E-16"
        iyy="2.4987E-07"
        iyz="-2.3732E-18"
        izz="2.4987E-07" />
    </inertial>
    <visual>
      <origin
        xyz="0 0 0"
        rpy="0 0 0" />
      <geometry>
        <mesh
          filename="package://ballbot 3.0/meshes/wheel118.STL" />
      </geometry>
      <material
        name="">
        <color
          rgba="0.79216 0.81961 0.93333 1" />
      </material>
    </visual>
    <collision>
      <origin
        xyz="0 0 0"
        rpy="0 0 0" />
      <geometry>
        <mesh
          filename="package://ballbot 3.0/meshes/wheel118.STL" />
      </geometry>
    </collision>
  </link>
  <joint
    name="wheel118"
    type="continuous">
    <origin
      xyz="-0.041495 -0.029023 -0.0048142"
      rpy="0.3261 -1.3411 2.7756" />
    <parent
      link="omniwheel1" />
    <child
      link="wheel118" />
    <axis
      xyz="1 0 0" />
  </joint>
  <link
    name="omniwheel5">
    <inertial>
      <origin
        xyz="-0.0031533 -0.016315 -0.00089375"
        rpy="0 0 0" />
      <mass
        value="0.4" />
      <inertia
        ixx="5.3777E-05"
        ixy="1.6576E-06"
        ixz="4.008E-08"
        iyy="7.3423E-05"
        iyz="4.9161E-07"
        izz="5.3674E-05" />
    </inertial>
    <visual>
      <origin
        xyz="0 0 0"
        rpy="0 0 0" />
      <geometry>
        <mesh
          filename="package://ballbot 3.0/meshes/omniwheel5.STL" />
      </geometry>
      <material
        name="">
        <color
          rgba="1 1 1 1" />
      </material>
    </visual>
    <collision>
      <origin
        xyz="0 0 0"
        rpy="0 0 0" />
      <geometry>
        <mesh
          filename="package://ballbot 3.0/meshes/omniwheel5.STL" />
      </geometry>
    </collision>
  </link>
  <joint
    name="omniwheel5"
    type="continuous">
    <origin
      xyz="0.057417 -0.43864 -0.052798"
      rpy="1.8108 0.66219 2.4732" />
    <parent
      link="base_link" />
    <child
      link="omniwheel5" />
    <axis
      xyz="0 1 0" />
  </joint>
  <link
    name="wheel51">
    <inertial>
      <origin
        xyz="3.8138E-07 3.8475E-11 9.4655E-11"
        rpy="0 0 0" />
      <mass
        value="0.0023" />
      <inertia
        ixx="2.1874E-07"
        ixy="8.299E-16"
        ixz="2.0417E-15"
        iyy="2.4987E-07"
        iyz="-1.2984E-17"
        izz="2.4987E-07" />
    </inertial>
    <visual>
      <origin
        xyz="0 0 0"
        rpy="0 0 0" />
      <geometry>
        <mesh
          filename="package://ballbot 3.0/meshes/wheel51.STL" />
      </geometry>
      <material
        name="">
        <color
          rgba="0.79216 0.81961 0.93333 1" />
      </material>
    </visual>
    <collision>
      <origin
        xyz="0 0 0"
        rpy="0 0 0" />
      <geometry>
        <mesh
          filename="package://ballbot 3.0/meshes/wheel51.STL" />
      </geometry>
    </collision>
  </link>
  <joint
    name="wheel51"
    type="continuous">
    <origin
      xyz="0.0049082 -0.0091398 0.038616"
      rpy="-0.77436 -0.1869 3.0629" />
    <parent
      link="omniwheel5" />
    <child
      link="wheel51" />
    <axis
      xyz="1 0 0" />
  </joint>
  <link
    name="wheel52">
    <inertial>
      <origin
        xyz="3.8163E-07 8.5901E-10 6.6989E-10"
        rpy="0 0 0" />
      <mass
        value="0.0023" />
      <inertia
        ixx="2.1874E-07"
        ixy="1.8223E-14"
        ixz="1.4211E-14"
        iyy="2.4987E-07"
        iyz="-2.0378E-15"
        izz="2.4987E-07" />
    </inertial>
    <visual>
      <origin
        xyz="0 0 0"
        rpy="0 0 0" />
      <geometry>
        <mesh
          filename="package://ballbot 3.0/meshes/wheel52.STL" />
      </geometry>
      <material
        name="">
        <color
          rgba="0.79216 0.81961 0.93333 1" />
      </material>
    </visual>
    <collision>
      <origin
        xyz="0 0 0"
        rpy="0 0 0" />
      <geometry>
        <mesh
          filename="package://ballbot 3.0/meshes/wheel52.STL" />
      </geometry>
    </collision>
  </link>
  <joint
    name="wheel52"
    type="continuous">
    <origin
      xyz="0.02838 -0.010748 0.024646"
      rpy="-0.78863 -0.8847 3.0892" />
    <parent
      link="omniwheel5" />
    <child
      link="wheel52" />
    <axis
      xyz="1 0 0" />
  </joint>
  <link
    name="wheel53">
    <inertial>
      <origin
        xyz="3.7947E-07 -8.3539E-11 -4.3441E-11"
        rpy="0 0 0" />
      <mass
        value="0.0023" />
      <inertia
        ixx="2.1874E-07"
        ixy="-2.0497E-15"
        ixz="-1.0658E-15"
        iyy="2.4987E-07"
        iyz="-1.3612E-17"
        izz="2.4987E-07" />
    </inertial>
    <visual>
      <origin
        xyz="0 0 0"
        rpy="0 0 0" />
      <geometry>
        <mesh
          filename="package://ballbot 3.0/meshes/wheel53.STL" />
      </geometry>
      <material
        name="">
        <color
          rgba="0.79216 0.81961 0.93333 1" />
      </material>
    </visual>
    <collision>
      <origin
        xyz="0 0 0"
        rpy="0 0 0" />
      <geometry>
        <mesh
          filename="package://ballbot 3.0/meshes/wheel53.STL" />
      </geometry>
    </collision>
  </link>
  <joint
    name="wheel53"
    type="continuous">
    <origin
      xyz="0.037441 -0.010847 -0.0011717"
      rpy="-2.774 -1.5425 -1.1994" />
    <parent
      link="omniwheel5" />
    <child
      link="wheel53" />
    <axis
      xyz="1 0 0" />
  </joint>
  <link
    name="wheel54">
    <inertial>
      <origin
        xyz="3.8026E-07 3.3097E-10 2.9031E-10"
        rpy="0 0 0" />
      <mass
        value="0.0023" />
      <inertia
        ixx="2.1874E-07"
        ixy="7.6936E-15"
        ixz="6.7484E-15"
        iyy="2.4987E-07"
        iyz="-3.5289E-16"
        izz="2.4987E-07" />
    </inertial>
    <visual>
      <origin
        xyz="0 0 0"
        rpy="0 0 0" />
      <geometry>
        <mesh
          filename="package://ballbot 3.0/meshes/wheel54.STL" />
      </geometry>
      <material
        name="">
        <color
          rgba="0.79216 0.81961 0.93333 1" />
      </material>
    </visual>
    <collision>
      <origin
        xyz="0 0 0"
        rpy="0 0 0" />
      <geometry>
        <mesh
          filename="package://ballbot 3.0/meshes/wheel54.STL" />
      </geometry>
    </collision>
  </link>
  <joint
    name="wheel54"
    type="continuous">
    <origin
      xyz="0.027852 -0.0093919 -0.026757"
      rpy="2.4321 -0.85986 -0.11302" />
    <parent
      link="omniwheel5" />
    <child
      link="wheel54" />
    <axis
      xyz="1 0 0" />
  </joint>
  <link
    name="wheel55">
    <inertial>
      <origin
        xyz="3.8256E-07 3.3033E-10 9.252E-11"
        rpy="0 0 0" />
      <mass
        value="0.0023" />
      <inertia
        ixx="2.1874E-07"
        ixy="6.5995E-15"
        ixz="1.8484E-15"
        iyy="2.4987E-07"
        iyz="-1.0558E-16"
        izz="2.4987E-07" />
    </inertial>
    <visual>
      <origin
        xyz="0 0 0"
        rpy="0 0 0" />
      <geometry>
        <mesh
          filename="package://ballbot 3.0/meshes/wheel55.STL" />
      </geometry>
      <material
        name="">
        <color
          rgba="0.79216 0.81961 0.93333 1" />
      </material>
    </visual>
    <collision>
      <origin
        xyz="0 0 0"
        rpy="0 0 0" />
      <geometry>
        <mesh
          filename="package://ballbot 3.0/meshes/wheel55.STL" />
      </geometry>
    </collision>
  </link>
  <joint
    name="wheel55"
    type="continuous">
    <origin
      xyz="0.0040992 -0.0070627 -0.040138"
      rpy="2.4189 -0.16205 -0.087648" />
    <parent
      link="omniwheel5" />
    <child
      link="wheel55" />
    <axis
      xyz="1 0 0" />
  </joint>
  <link
    name="wheel56">
    <inertial>
      <origin
        xyz="3.8079E-07 4.1038E-11 -1.0457E-10"
        rpy="0 0 0" />
      <mass
        value="0.0023" />
      <inertia
        ixx="2.1874E-07"
        ixy="9.2043E-16"
        ixz="-2.3454E-15"
        iyy="2.4987E-07"
        iyz="1.554E-17"
        izz="2.4987E-07" />
    </inertial>
    <visual>
      <origin
        xyz="0 0 0"
        rpy="0 0 0" />
      <geometry>
        <mesh
          filename="package://ballbot 3.0/meshes/wheel56.STL" />
      </geometry>
      <material
        name="">
        <color
          rgba="0.79216 0.81961 0.93333 1" />
      </material>
    </visual>
    <collision>
      <origin
        xyz="0 0 0"
        rpy="0 0 0" />
      <geometry>
        <mesh
          filename="package://ballbot 3.0/meshes/wheel56.STL" />
      </geometry>
    </collision>
  </link>
  <joint
    name="wheel56"
    type="continuous">
    <origin
      xyz="-0.022703 -0.0049495 -0.035053"
      rpy="2.4227 0.53584 -0.068393" />
    <parent
      link="omniwheel5" />
    <child
      link="wheel56" />
    <axis
      xyz="1 0 0" />
  </joint>
  <link
    name="wheel57">
    <inertial>
      <origin
        xyz="3.7971E-07 9.2441E-11 9.9295E-10"
        rpy="0 0 0" />
      <mass
        value="0.0023" />
      <inertia
        ixx="2.1874E-07"
        ixy="2.2314E-15"
        ixz="2.3968E-14"
        iyy="2.4987E-07"
        iyz="-3.4211E-16"
        izz="2.4987E-07" />
    </inertial>
    <visual>
      <origin
        xyz="0 0 0"
        rpy="0 0 0" />
      <geometry>
        <mesh
          filename="package://ballbot 3.0/meshes/wheel57.STL" />
      </geometry>
      <material
        name="">
        <color
          rgba="0.79216 0.81961 0.93333 1" />
      </material>
    </visual>
    <collision>
      <origin
        xyz="0 0 0"
        rpy="0 0 0" />
      <geometry>
        <mesh
          filename="package://ballbot 3.0/meshes/wheel57.STL" />
      </geometry>
    </collision>
  </link>
  <joint
    name="wheel57"
    type="continuous">
    <origin
      xyz="-0.040013 -0.0040411 -0.013883"
      rpy="2.4699 1.2332 -0.010988" />
    <parent
      link="omniwheel5" />
    <child
      link="wheel57" />
    <axis
      xyz="1 0 0" />
  </joint>
  <link
    name="wheel58">
    <inertial>
      <origin
        xyz="3.8226E-07 2.0464E-10 3.773E-10"
        rpy="0 0 0" />
      <mass
        value="0.0023" />
      <inertia
        ixx="2.1874E-07"
        ixy="4.1673E-15"
        ixz="7.6833E-15"
        iyy="2.4987E-07"
        iyz="-2.6887E-16"
        izz="2.4987E-07" />
    </inertial>
    <visual>
      <origin
        xyz="0 0 0"
        rpy="0 0 0" />
      <geometry>
        <mesh
          filename="package://ballbot 3.0/meshes/wheel58.STL" />
      </geometry>
      <material
        name="">
        <color
          rgba="0.79216 0.81961 0.93333 1" />
      </material>
    </visual>
    <collision>
      <origin
        xyz="0 0 0"
        rpy="0 0 0" />
      <geometry>
        <mesh
          filename="package://ballbot 3.0/meshes/wheel58.STL" />
      </geometry>
    </collision>
  </link>
  <joint
    name="wheel58"
    type="continuous">
    <origin
      xyz="-0.039732 -0.0047624 0.013468"
      rpy="-0.82026 1.2084 2.991" />
    <parent
      link="omniwheel5" />
    <child
      link="wheel58" />
    <axis
      xyz="1 0 0" />
  </joint>
  <link
    name="wheel59">
    <inertial>
      <origin
        xyz="3.7991E-07 2.4541E-11 -1.0326E-10"
        rpy="0 0 0" />
      <mass
        value="0.0023" />
      <inertia
        ixx="2.1874E-07"
        ixy="5.8419E-16"
        ixz="-2.4582E-15"
        iyy="2.4987E-07"
        iyz="9.3941E-18"
        izz="2.4987E-07" />
    </inertial>
    <visual>
      <origin
        xyz="0 0 0"
        rpy="0 0 0" />
      <geometry>
        <mesh
          filename="package://ballbot 3.0/meshes/wheel59.STL" />
      </geometry>
      <material
        name="">
        <color
          rgba="0.79216 0.81961 0.93333 1" />
      </material>
    </visual>
    <collision>
      <origin
        xyz="0 0 0"
        rpy="0 0 0" />
      <geometry>
        <mesh
          filename="package://ballbot 3.0/meshes/wheel59.STL" />
      </geometry>
    </collision>
  </link>
  <joint
    name="wheel59"
    type="continuous">
    <origin
      xyz="-0.021991 -0.0067761 0.034201"
      rpy="-0.77764 0.51099 3.0438" />
    <parent
      link="omniwheel5" />
    <child
      link="wheel59" />
    <axis
      xyz="1 0 0" />
  </joint>
  <link
    name="wheel510">
    <inertial>
      <origin
        xyz="3.7985E-07 -4.3249E-11 -8.0254E-11"
        rpy="0 0 0" />
      <mass
        value="0.0023" />
      <inertia
        ixx="2.1874E-07"
        ixy="-1.0338E-15"
        ixz="-1.9184E-15"
        iyy="2.4987E-07"
        iyz="-1.2887E-17"
        izz="2.4987E-07" />
    </inertial>
    <visual>
      <origin
        xyz="0 0 0"
        rpy="0 0 0" />
      <geometry>
        <mesh
          filename="package://ballbot 3.0/meshes/wheel510.STL" />
      </geometry>
      <material
        name="">
        <color
          rgba="0.79216 0.81961 0.93333 1" />
      </material>
    </visual>
    <collision>
      <origin
        xyz="0 0 0"
        rpy="0 0 0" />
      <geometry>
        <mesh
          filename="package://ballbot 3.0/meshes/wheel510.STL" />
      </geometry>
    </collision>
  </link>
  <joint
    name="wheel510"
    type="continuous">
    <origin
      xyz="0.01504 -0.029957 -0.036271"
      rpy="-0.029005 0.5024 3.0441" />
    <parent
      link="omniwheel5" />
    <child
      link="wheel510" />
    <axis
      xyz="1 0 0" />
  </joint>
  <link
    name="wheel511">
    <inertial>
      <origin
        xyz="3.8167E-07 2.3687E-10 4.6138E-11"
        rpy="0 0 0" />
      <mass
        value="0.0023" />
      <inertia
        ixx="2.1874E-07"
        ixy="5.0102E-15"
        ixz="9.759E-16"
        iyy="2.4987E-07"
        iyz="-3.8655E-17"
        izz="2.4987E-07" />
    </inertial>
    <visual>
      <origin
        xyz="0 0 0"
        rpy="0 0 0" />
      <geometry>
        <mesh
          filename="package://ballbot 3.0/meshes/wheel511.STL" />
      </geometry>
      <material
        name="">
        <color
          rgba="0.79216 0.81961 0.93333 1" />
      </material>
    </visual>
    <collision>
      <origin
        xyz="0 0 0"
        rpy="0 0 0" />
      <geometry>
        <mesh
          filename="package://ballbot 3.0/meshes/wheel511.STL" />
      </geometry>
    </collision>
  </link>
  <joint
    name="wheel511"
    type="continuous">
    <origin
      xyz="0.032958 -0.031982 -0.015692"
      rpy="-0.07018 1.1999 2.9927" />
    <parent
      link="omniwheel5" />
    <child
      link="wheel511" />
    <axis
      xyz="1 0 0" />
  </joint>
  <link
    name="wheel512">
    <inertial>
      <origin
        xyz="3.8004E-07 5.3287E-10 4.6578E-10"
        rpy="0 0 0" />
      <mass
        value="0.0023" />
      <inertia
        ixx="2.1874E-07"
        ixy="1.2579E-14"
        ixz="1.0995E-14"
        iyy="2.4987E-07"
        iyz="-9.1705E-16"
        izz="2.4987E-07" />
    </inertial>
    <visual>
      <origin
        xyz="0 0 0"
        rpy="0 0 0" />
      <geometry>
        <mesh
          filename="package://ballbot 3.0/meshes/wheel512.STL" />
      </geometry>
      <material
        name="">
        <color
          rgba="0.79216 0.81961 0.93333 1" />
      </material>
    </visual>
    <collision>
      <origin
        xyz="0 0 0"
        rpy="0 0 0" />
      <geometry>
        <mesh
          filename="package://ballbot 3.0/meshes/wheel512.STL" />
      </geometry>
    </collision>
  </link>
  <joint
    name="wheel512"
    type="continuous">
    <origin
      xyz="0.033473 -0.032723 0.011655"
      rpy="-3.0628 1.2418 -0.0089472" />
    <parent
      link="omniwheel5" />
    <child
      link="wheel512" />
    <axis
      xyz="1 0 0" />
  </joint>
  <link
    name="wheel513">
    <inertial>
      <origin
        xyz="3.8164E-07 -5.5496E-10 5.3086E-10"
        rpy="0 0 0" />
      <mass
        value="0.0023" />
      <inertia
        ixx="2.1874E-07"
        ixy="-1.1769E-14"
        ixz="1.1258E-14"
        iyy="2.4987E-07"
        iyz="1.0431E-15"
        izz="2.4987E-07" />
    </inertial>
    <visual>
      <origin
        xyz="0 0 0"
        rpy="0 0 0" />
      <geometry>
        <mesh
          filename="package://ballbot 3.0/meshes/wheel513.STL" />
      </geometry>
      <material
        name="">
        <color
          rgba="0.79216 0.81961 0.93333 1" />
      </material>
    </visual>
    <collision>
      <origin
        xyz="0 0 0"
        rpy="0 0 0" />
      <geometry>
        <mesh
          filename="package://ballbot 3.0/meshes/wheel513.STL" />
      </geometry>
    </collision>
  </link>
  <joint
    name="wheel513"
    type="continuous">
    <origin
      xyz="0.016344 -0.031833 0.032973"
      rpy="-3.1119 0.54443 -0.068096" />
    <parent
      link="omniwheel5" />
    <child
      link="wheel513" />
    <axis
      xyz="1 0 0" />
  </joint>
  <link
    name="wheel514">
    <inertial>
      <origin
        xyz="3.7993E-07 -3.5506E-11 1.6448E-11"
        rpy="0 0 0" />
      <mass
        value="0.0023" />
      <inertia
        ixx="2.1874E-07"
        ixy="-8.4421E-16"
        ixz="3.9108E-16"
        iyy="2.4987E-07"
        iyz="2.1639E-18"
        izz="2.4987E-07" />
    </inertial>
    <visual>
      <origin
        xyz="0 0 0"
        rpy="0 0 0" />
      <geometry>
        <mesh
          filename="package://ballbot 3.0/meshes/wheel514.STL" />
      </geometry>
      <material
        name="">
        <color
          rgba="0.79216 0.81961 0.93333 1" />
      </material>
    </visual>
    <collision>
      <origin
        xyz="0 0 0"
        rpy="0 0 0" />
      <geometry>
        <mesh
          filename="package://ballbot 3.0/meshes/wheel514.STL" />
      </geometry>
    </collision>
  </link>
  <joint
    name="wheel514"
    type="continuous">
    <origin
      xyz="-0.010414 -0.029729 0.038288"
      rpy="-3.1159 -0.15346 -0.087424" />
    <parent
      link="omniwheel5" />
    <child
      link="wheel514" />
    <axis
      xyz="1 0 0" />
  </joint>
  <link
    name="wheel515">
    <inertial>
      <origin
        xyz="3.8142E-07 3.617E-11 -2.5813E-10"
        rpy="0 0 0" />
      <mass
        value="0.0023" />
      <inertia
        ixx="2.1874E-07"
        ixy="7.7816E-16"
        ixz="-5.5534E-15"
        iyy="2.4987E-07"
        iyz="3.3251E-17"
        izz="2.4987E-07" />
    </inertial>
    <visual>
      <origin
        xyz="0 0 0"
        rpy="0 0 0" />
      <geometry>
        <mesh
          filename="package://ballbot 3.0/meshes/wheel515.STL" />
      </geometry>
      <material
        name="">
        <color
          rgba="0.79216 0.81961 0.93333 1" />
      </material>
    </visual>
    <collision>
      <origin
        xyz="0 0 0"
        rpy="0 0 0" />
      <geometry>
        <mesh
          filename="package://ballbot 3.0/meshes/wheel515.STL" />
      </geometry>
    </collision>
  </link>
  <joint
    name="wheel515"
    type="continuous">
    <origin
      xyz="-0.03428 -0.027396 0.025113"
      rpy="-3.103 -0.85127 -0.11251" />
    <parent
      link="omniwheel5" />
    <child
      link="wheel515" />
    <axis
      xyz="1 0 0" />
  </joint>
  <link
    name="wheel516">
    <inertial>
      <origin
        xyz="3.7994E-07 -9.6158E-11 -1.46E-11"
        rpy="0 0 0" />
      <mass
        value="0.0023" />
      <inertia
        ixx="2.1874E-07"
        ixy="-2.2852E-15"
        ixz="-3.4696E-16"
        iyy="2.4987E-07"
        iyz="-5.2008E-18"
        izz="2.4987E-07" />
    </inertial>
    <visual>
      <origin
        xyz="0 0 0"
        rpy="0 0 0" />
      <geometry>
        <mesh
          filename="package://ballbot 3.0/meshes/wheel516.STL" />
      </geometry>
      <material
        name="">
        <color
          rgba="0.79216 0.81961 0.93333 1" />
      </material>
    </visual>
    <collision>
      <origin
        xyz="0 0 0"
        rpy="0 0 0" />
      <geometry>
        <mesh
          filename="package://ballbot 3.0/meshes/wheel516.STL" />
      </geometry>
    </collision>
  </link>
  <joint
    name="wheel516"
    type="continuous">
    <origin
      xyz="-0.044089 -0.025925 -0.00038813"
      rpy="-2.2616 -1.5378 -0.96319" />
    <parent
      link="omniwheel5" />
    <child
      link="wheel516" />
    <axis
      xyz="1 0 0" />
  </joint>
  <link
    name="wheel517">
    <inertial>
      <origin
        xyz="3.8084E-07 6.2586E-12 -1.8691E-12"
        rpy="0 0 0" />
      <mass
        value="0.0023" />
      <inertia
        ixx="2.1874E-07"
        ixy="1.3991E-16"
        ixz="-4.1783E-17"
        iyy="2.4987E-07"
        iyz="4.2285E-20"
        izz="2.4987E-07" />
    </inertial>
    <visual>
      <origin
        xyz="0 0 0"
        rpy="0 0 0" />
      <geometry>
        <mesh
          filename="package://ballbot 3.0/meshes/wheel517.STL" />
      </geometry>
      <material
        name="">
        <color
          rgba="0.79216 0.81961 0.93333 1" />
      </material>
    </visual>
    <collision>
      <origin
        xyz="0 0 0"
        rpy="0 0 0" />
      <geometry>
        <mesh
          filename="package://ballbot 3.0/meshes/wheel517.STL" />
      </geometry>
    </collision>
  </link>
  <joint
    name="wheel517"
    type="continuous">
    <origin
      xyz="-0.035249 -0.026004 -0.026282"
      rpy="-0.040559 -0.89328 3.0897" />
    <parent
      link="omniwheel5" />
    <child
      link="wheel517" />
    <axis
      xyz="1 0 0" />
  </joint>
  <link
    name="wheel518">
    <inertial>
      <origin
        xyz="3.8195E-07 1.4231E-10 -5.2643E-11"
        rpy="0 0 0" />
      <mass
        value="0.0023" />
      <inertia
        ixx="2.1874E-07"
        ixy="2.9567E-15"
        ixz="-1.0937E-15"
        iyy="2.4987E-07"
        iyz="2.6305E-17"
        izz="2.4987E-07" />
    </inertial>
    <visual>
      <origin
        xyz="0 0 0"
        rpy="0 0 0" />
      <geometry>
        <mesh
          filename="package://ballbot 3.0/meshes/wheel518.STL" />
      </geometry>
      <material
        name="">
        <color
          rgba="0.79216 0.81961 0.93333 1" />
      </material>
    </visual>
    <collision>
      <origin
        xyz="0 0 0"
        rpy="0 0 0" />
      <geometry>
        <mesh
          filename="package://ballbot 3.0/meshes/wheel518.STL" />
      </geometry>
    </collision>
  </link>
  <joint
    name="wheel518"
    type="continuous">
    <origin
      xyz="-0.011897 -0.027596 -0.040454"
      rpy="-0.025914 -0.19549 3.0631" />
    <parent
      link="omniwheel5" />
    <child
      link="wheel518" />
    <axis
      xyz="1 0 0" />
  </joint>
</robot>
